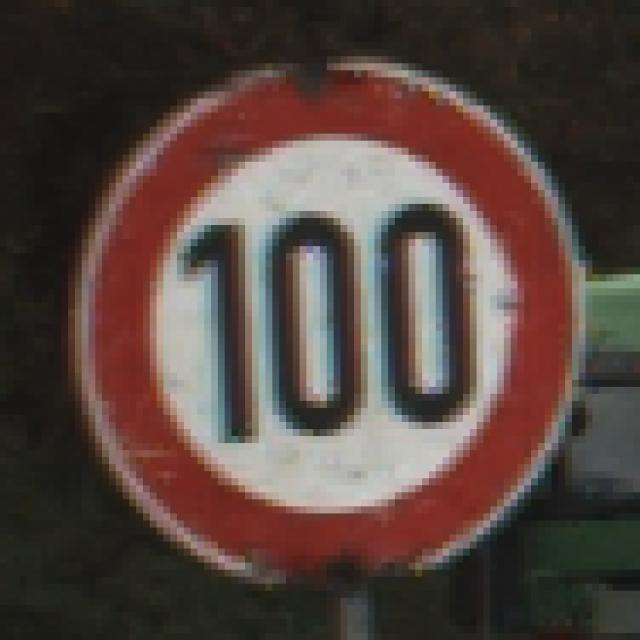speed limit 100: (63, 49, 587, 583)
